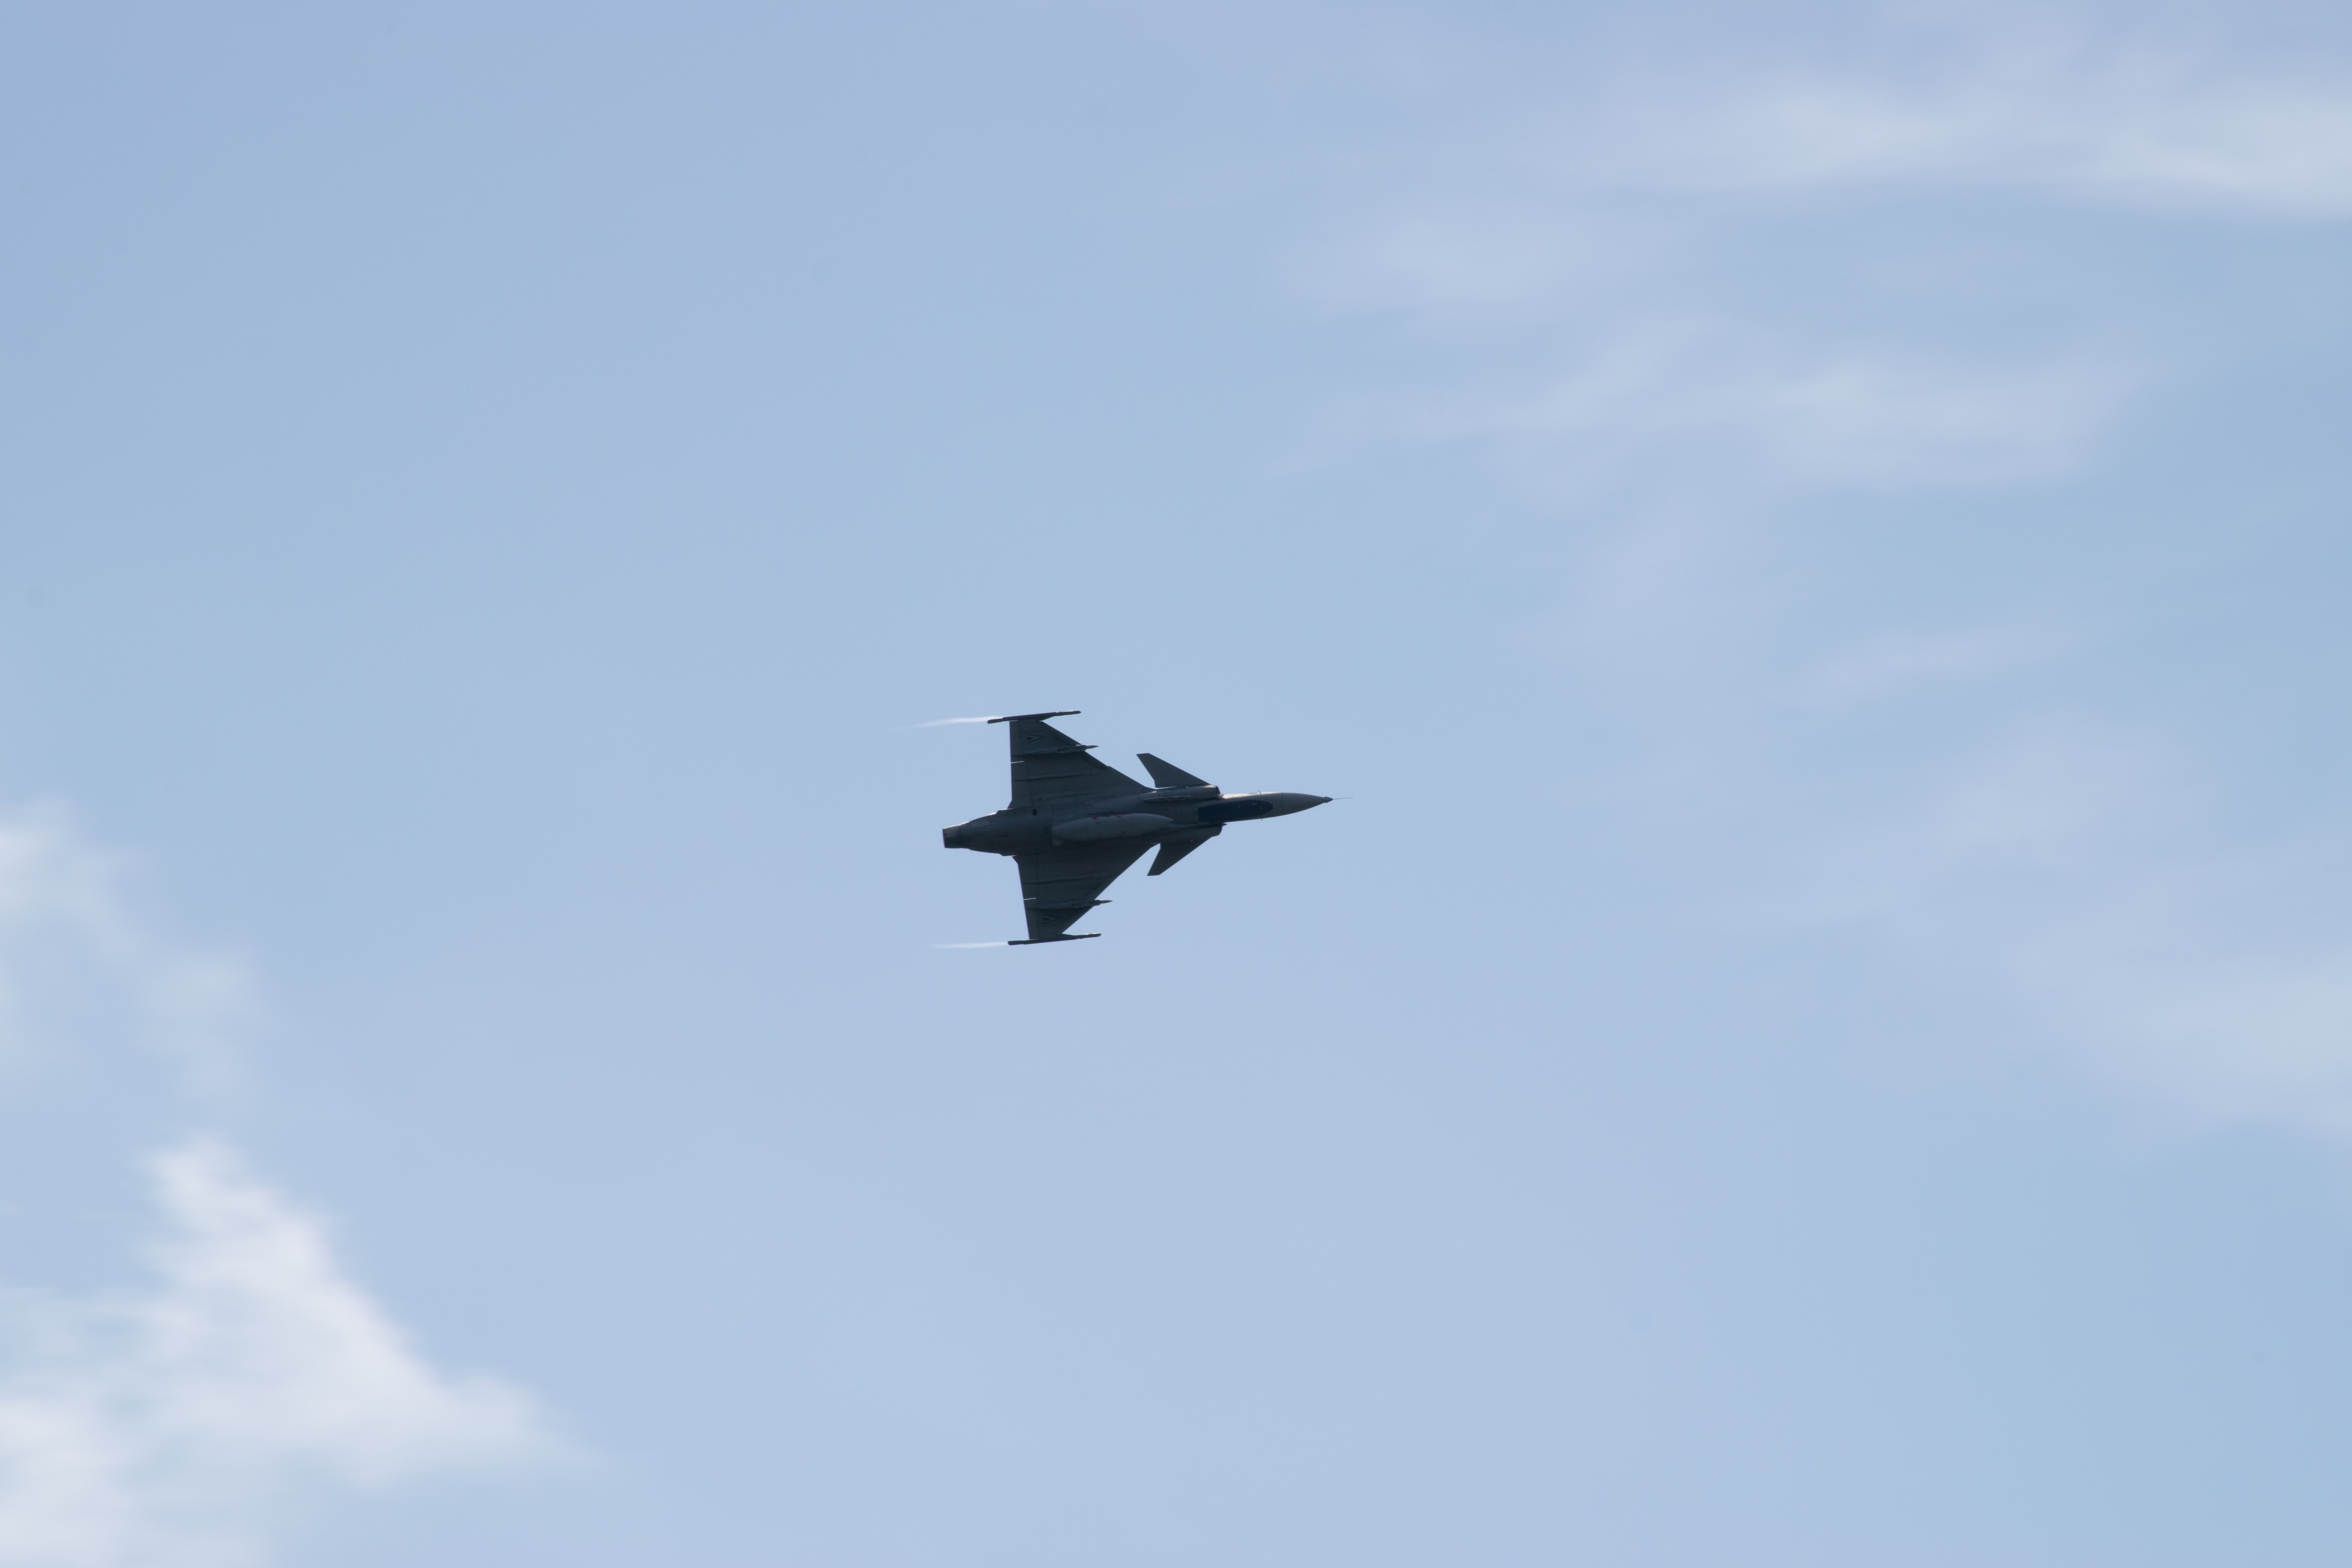JAS39: (941, 710, 1353, 945)
